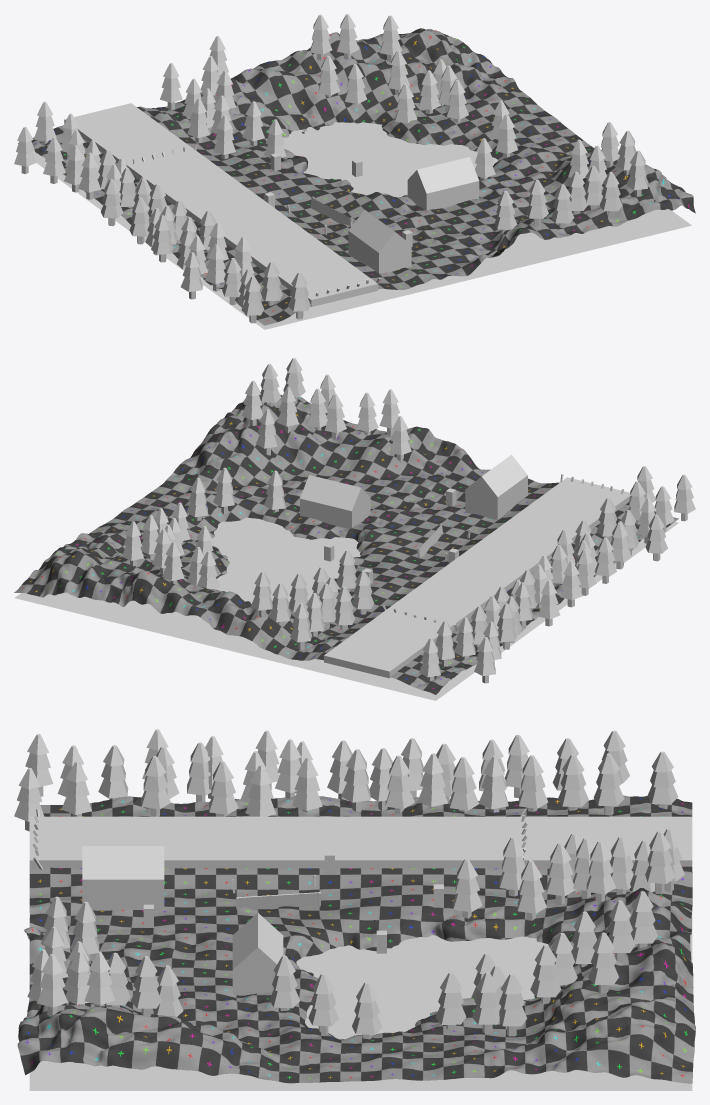
The model's file is chapter1.glb.
3 renders of one model, top to bottom at view 1: azimuth 30°, elevation 25°; view 2: azimuth 150°, elevation 25°; view 3: azimuth 270°, elevation 25°, orthographic. The views are drawn at different scales.
Parts seen in each view (by area): view 1: Terain-col, RoadArea, waterplane, House.01-col, House.02-col, Tree.048, Tree.037, Tree.047, Tree.065, Tree.032, Tree.063, Tree.067 (+36 smaller); view 2: Terain-col, RoadArea, waterplane, House.01-col, House.02-col, Tree.041, Tree.052, Tree.053, Tree.037, Tree.001, Tree.024, Tree.027 (+34 smaller); view 3: Terain-col, RoadArea, waterplane, House.02-col, House.01-col, Tree.052, Tree.017, Tree.010, Tree.028, Tree.068, Tree.021, BoxesPlacement-col (+54 smaller).
Part boxes in pixels (box(x1,y1,x2,y2)): Terain-col: box(18, 28, 695, 325); RoadArea: box(64, 103, 377, 306); waterplane: box(33, 122, 691, 329); House.01-col: box(407, 157, 479, 210); House.02-col: box(348, 210, 411, 273); Tree.048: box(241, 276, 264, 323); Tree.037: box(151, 215, 173, 262); Tree.047: box(288, 272, 310, 319); Tree.065: box(526, 179, 548, 226); Tree.032: box(100, 179, 123, 226); Tree.063: box(599, 172, 622, 218); Tree.067: box(626, 150, 648, 196); Terain-col: box(14, 394, 678, 694); RoadArea: box(324, 477, 630, 678); waterplane: box(14, 517, 678, 700); House.01-col: box(300, 475, 370, 528); House.02-col: box(465, 454, 527, 519); Tree.041: box(645, 514, 667, 561); Tree.052: box(251, 571, 272, 617); Tree.053: box(290, 603, 311, 649); Tree.037: box(595, 537, 616, 583); Tree.001: box(352, 570, 373, 614); Tree.024: box(497, 603, 517, 649); Tree.027: box(474, 637, 495, 683); Terain-col: box(17, 795, 695, 1083); RoadArea: box(29, 816, 692, 868); waterplane: box(29, 912, 692, 1090); House.02-col: box(82, 846, 164, 911); House.01-col: box(232, 913, 283, 995); Tree.052: box(645, 831, 675, 894); Tree.017: box(588, 932, 618, 993); Tree.010: box(499, 973, 527, 1036); Tree.028: box(593, 753, 624, 815); Tree.068: box(131, 956, 161, 1017); Tree.021: box(308, 973, 338, 1034); BoxesPlacement-col: box(231, 875, 320, 909).
Size of what is drawn, in the model's own units: 140 by 33.85 by 132.
1 material, 1 textured.
